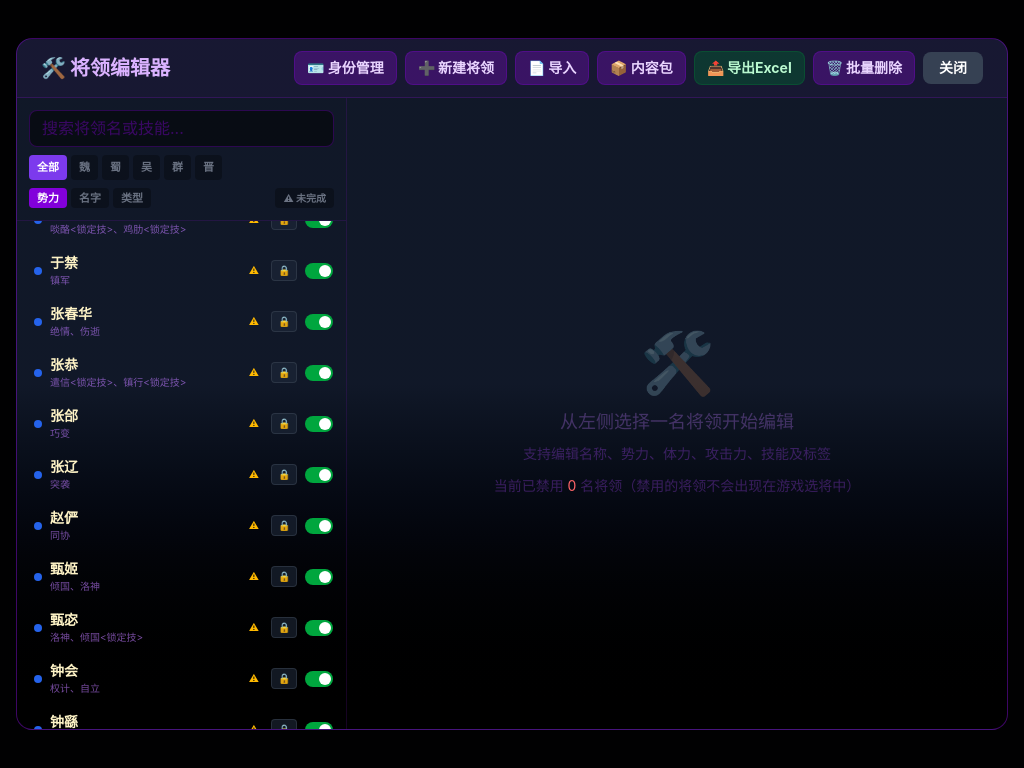
Scenario: 自己写效果：生成 → 确认 → 进积木 › 「其他角色摸两张牌」＝用词错误：界面讲的是"角色没有手牌这一格"，不是"内容还没做"
The image size is (1024, 768).
(page scrolled)
Click the button "张辽 突袭 ⚠" at (146, 475), box x1=26 y1=451 x2=267 y2=498
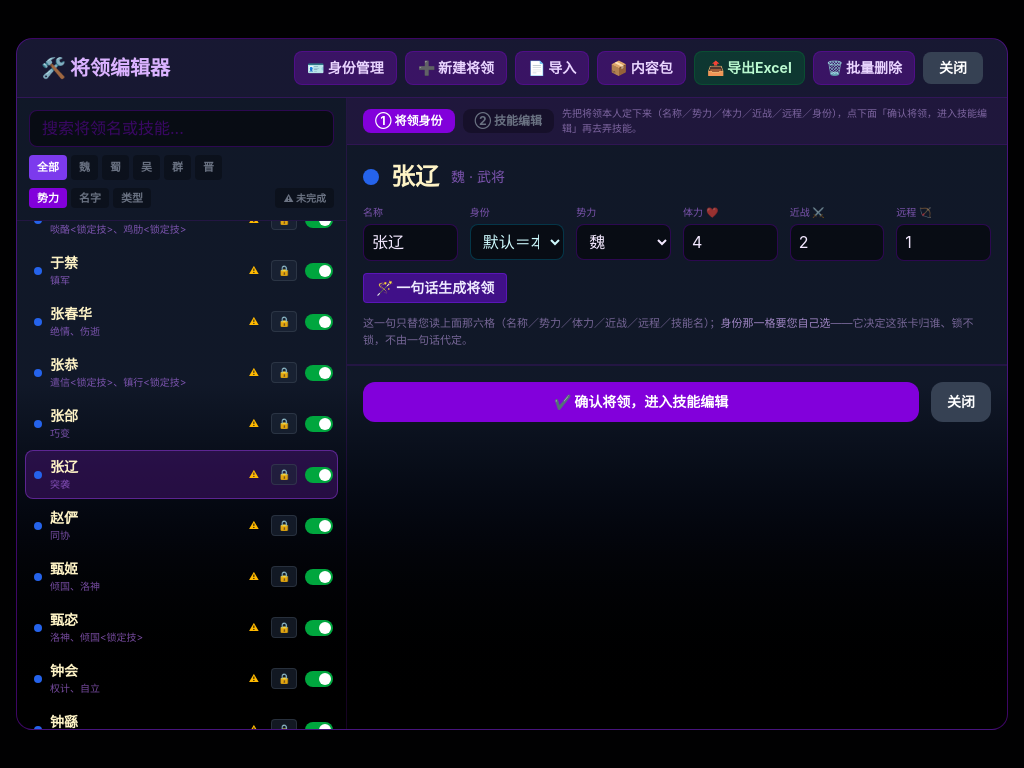
Click the button "② 技能编辑" at (508, 121), box x1=462 y1=109 x2=554 y2=133
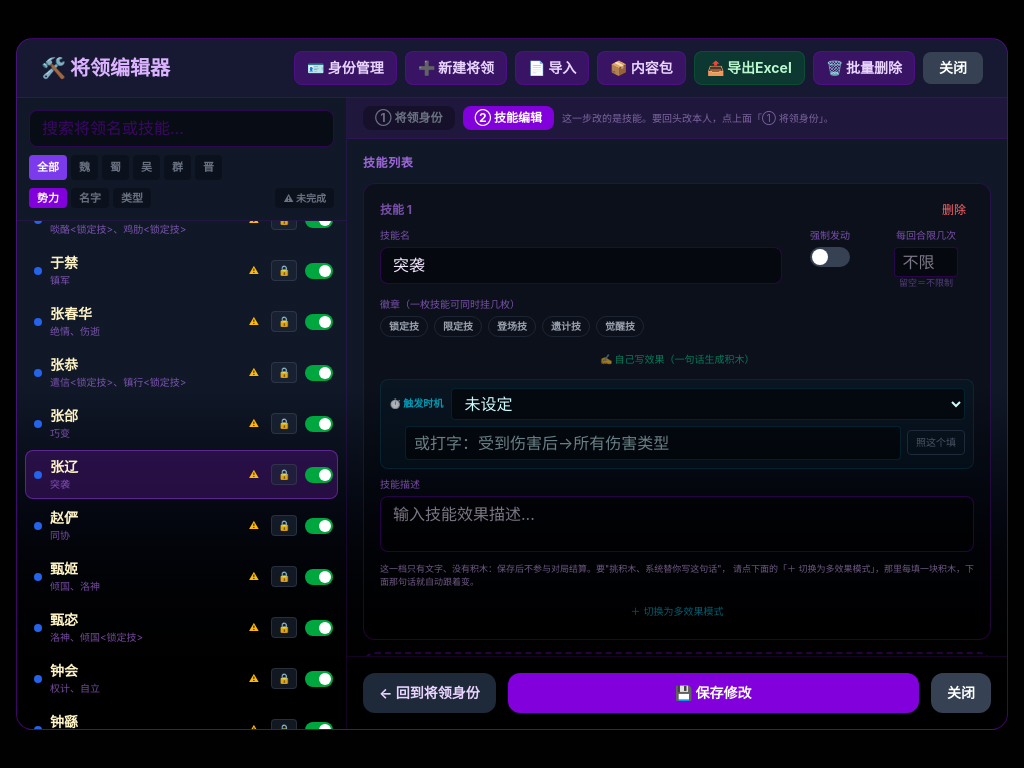
Click the button "✍️ 自己写效果（一句话生成积木）" at (677, 359), box x1=380 y1=348 x2=974 y2=371
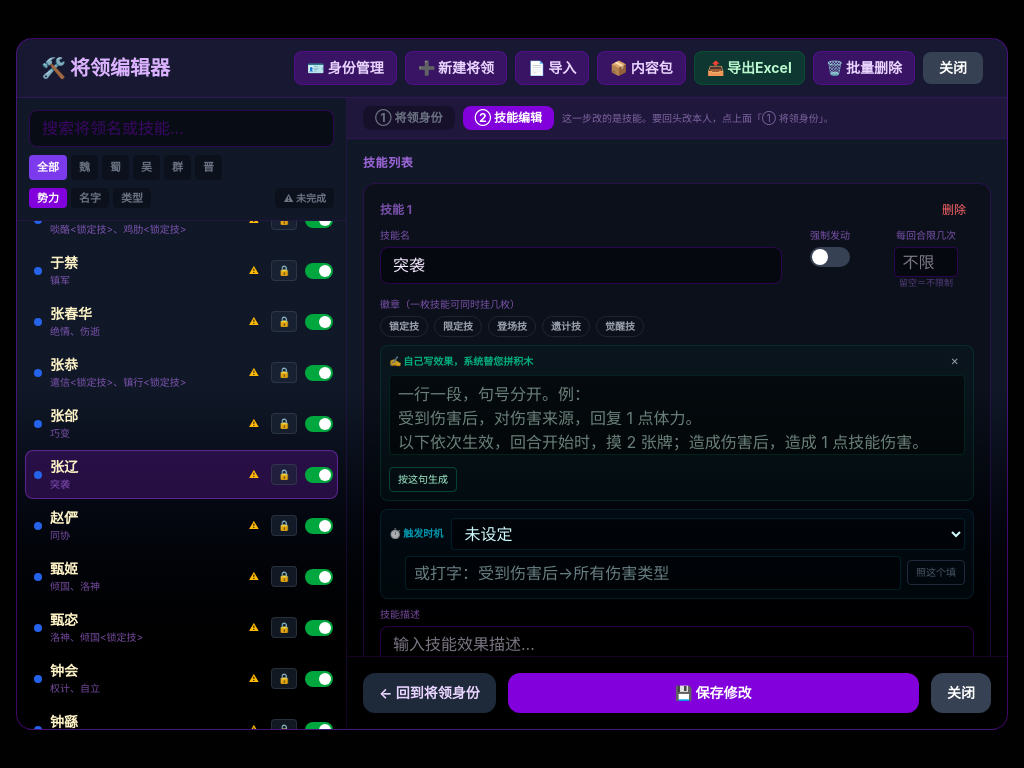
Replace the text in the text box named "自己写效果" with "其他角色摸两张牌。" at (677, 415), box x1=389 y1=375 x2=965 y2=455
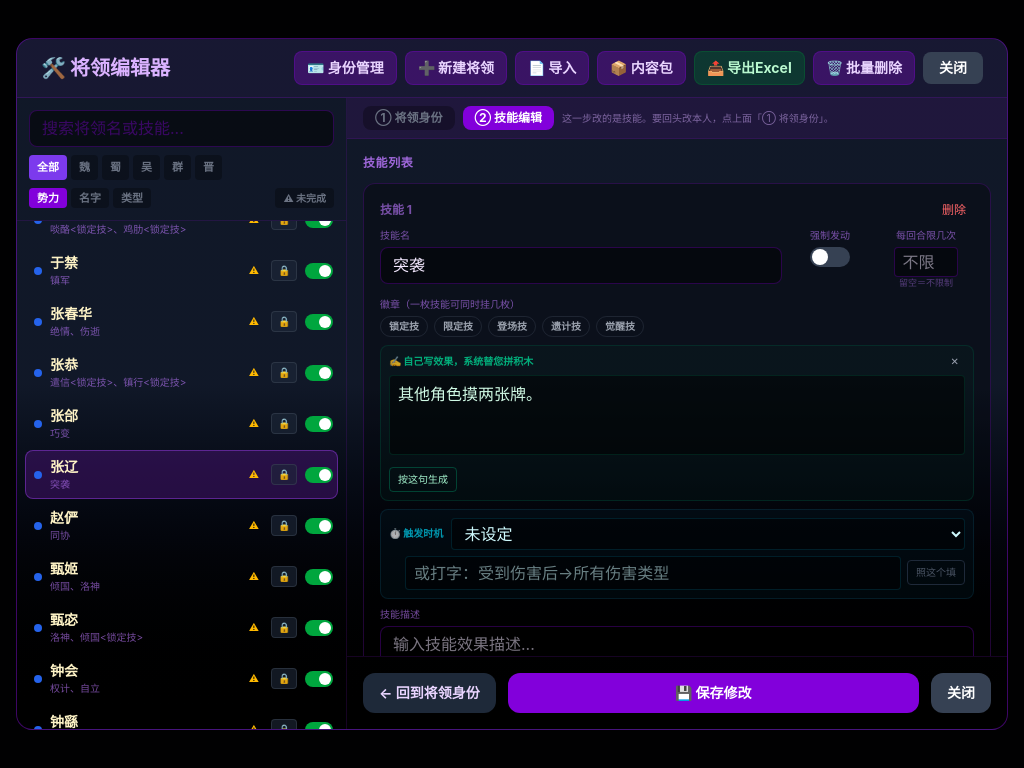
Click the button "按这句生成" at (423, 479), box x1=389 y1=467 x2=457 y2=492
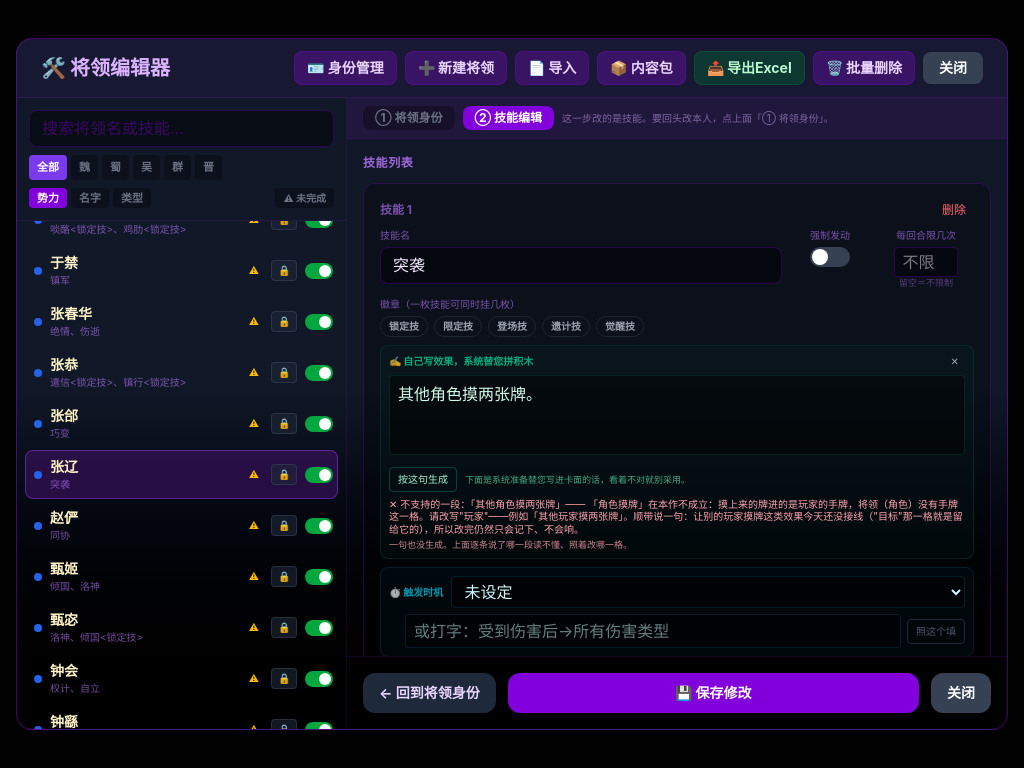
Expected: the text "不支持的一段" shows "没有手牌", x1=389 y1=498 x2=963 y2=535
Expected: the text "不支持的一段" shows "其他玩家摸两张牌", x1=389 y1=498 x2=963 y2=535
Expected: the text "一句也没生成。上面逐条说了哪一段读不懂、照着改哪一格。" is shown, x1=389 y1=539 x2=632 y2=550
